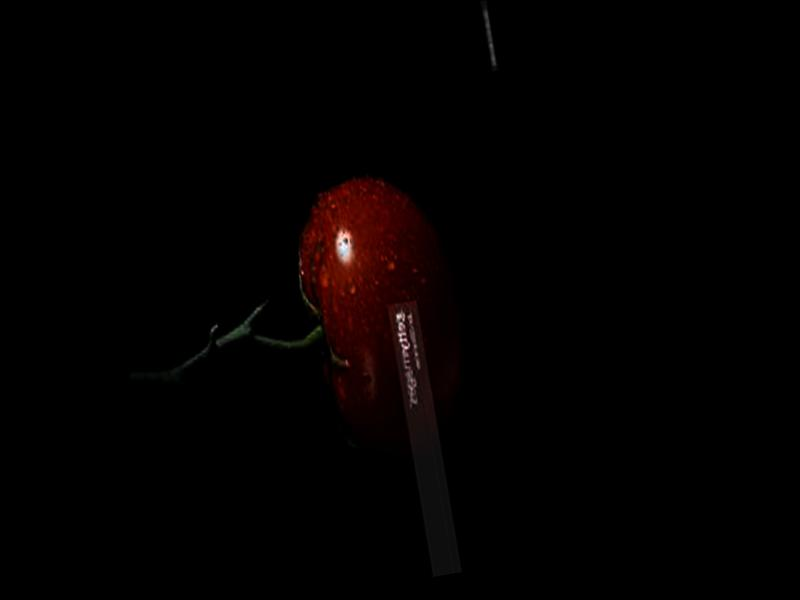Tomato: (288, 166, 477, 459)
